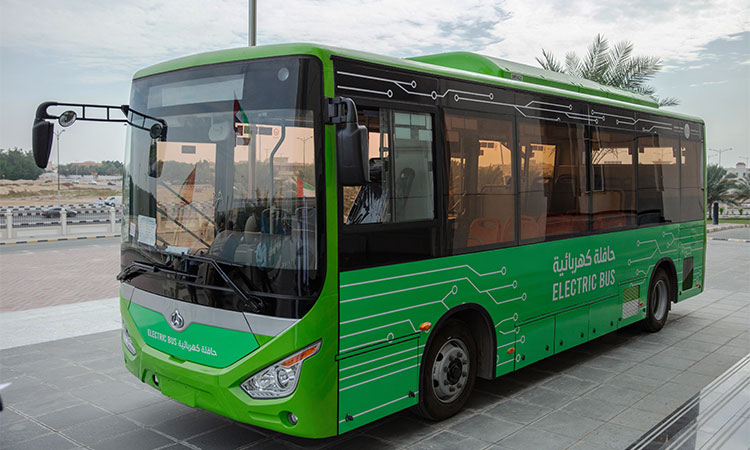bus: (34, 39, 707, 438)
